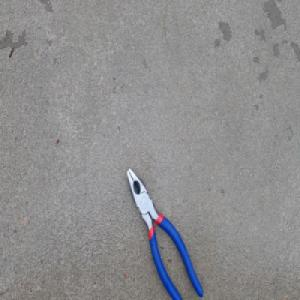Pliers: (125, 165, 203, 300)
